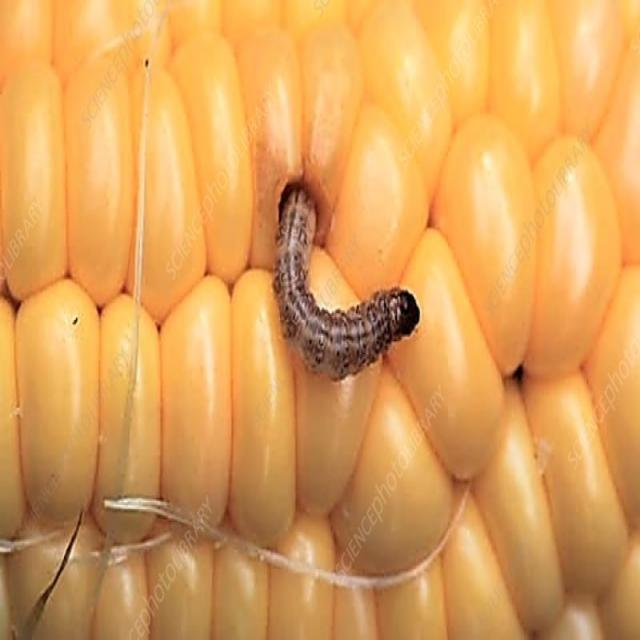cornborer-Larva-: (268, 165, 426, 392)
